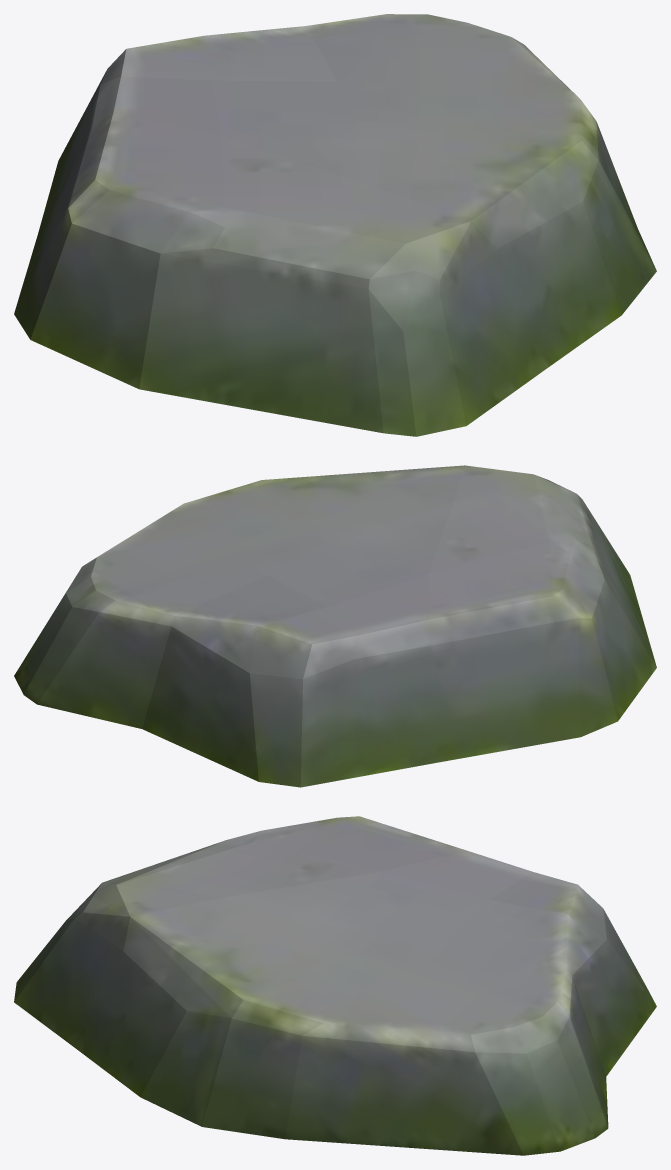
Rendered from pebble-3.glb.
The picture shows the model from 3 angles, top to bottom: view 1: azimuth 30°, elevation 25°; view 2: azimuth 150°, elevation 25°; view 3: azimuth 270°, elevation 25°; orthographic projection. The views are drawn at different scales.
Parts seen in each view (by area): view 1: Cube_017_Retopology_009; view 2: Cube_017_Retopology_009; view 3: Cube_017_Retopology_009.
Part boxes in pixels (x1,y1,x2,y2): Cube_017_Retopology_009: [14, 14, 656, 436]; Cube_017_Retopology_009: [14, 465, 656, 787]; Cube_017_Retopology_009: [14, 816, 656, 1155].
Bounding box in the file's own units: 0.4497 × 0.0986 × 0.4848.
1 material, 1 textured.
